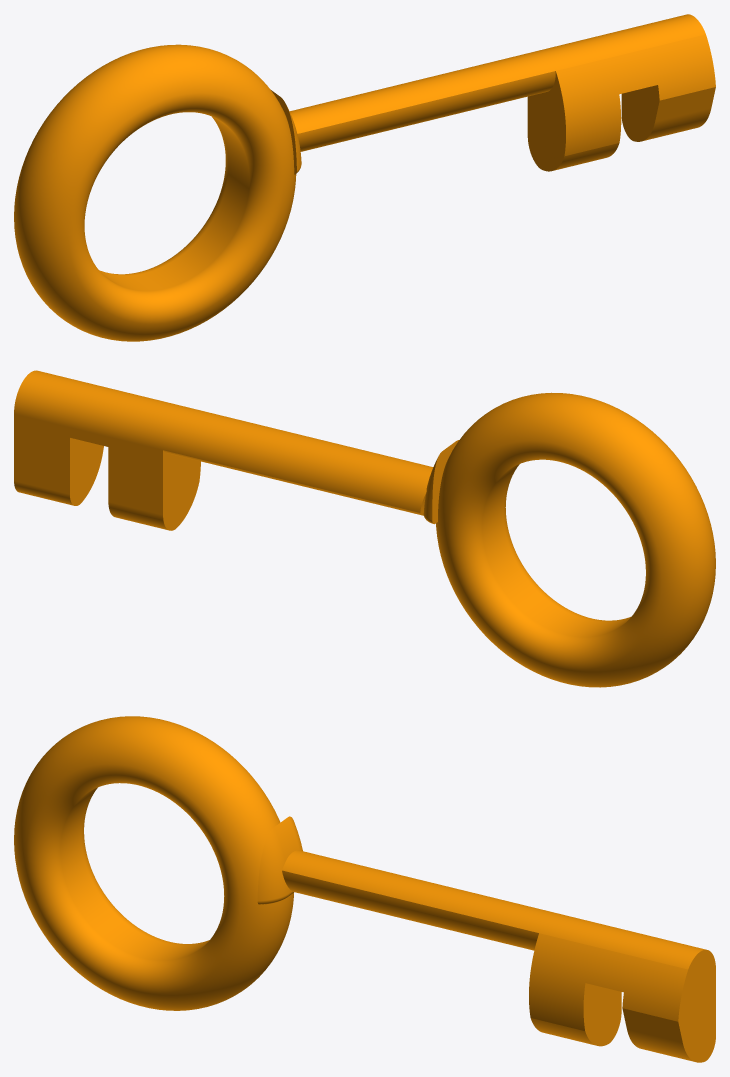
File: key.obj
3 renders of one model, top to bottom at view 1: azimuth 30°, elevation 25°; view 2: azimuth 150°, elevation 25°; view 3: azimuth 330°, elevation 25°, orthographic.
Visible parts, largest first — view 1: key; view 2: key; view 3: key.
Part boxes in pixels (left/top/right/bottom): key: left=14, top=14, right=715, bottom=341; key: left=14, top=370, right=715, bottom=687; key: left=14, top=716, right=715, bottom=1062.
Bounding box in the file's own units: 10.86 × 4.33 × 1.19.
